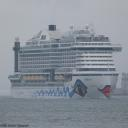cruises: (8, 25, 124, 102)
